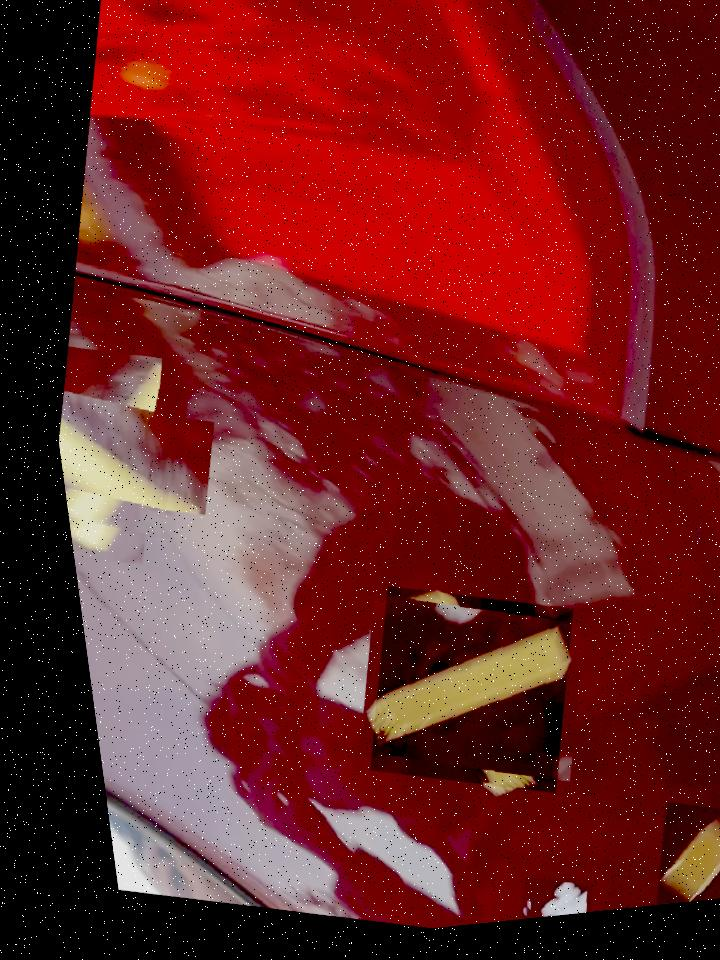dent: (485, 881, 568, 928)
scratch: (328, 577, 573, 818), (39, 364, 192, 549), (615, 806, 720, 917)
